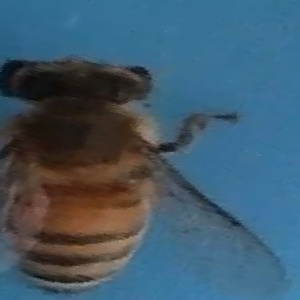bee: (3, 55, 282, 300)
